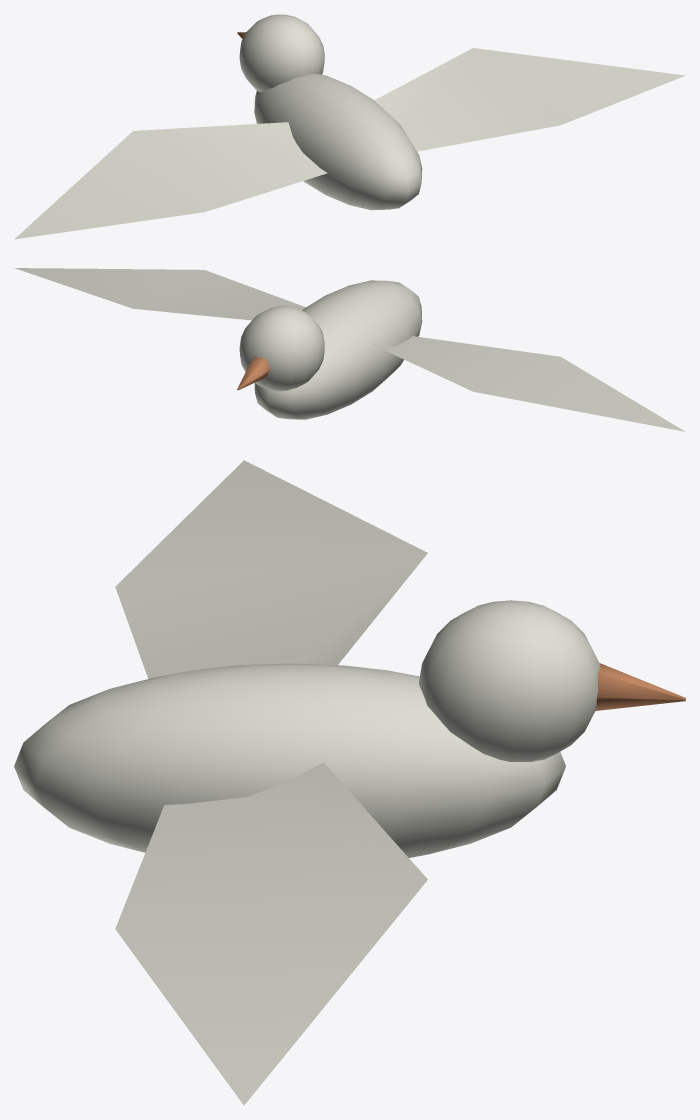
File: gull.glb
3 renders of one model, top to bottom at view 1: azimuth 30°, elevation 25°; view 2: azimuth 150°, elevation 25°; view 3: azimuth 270°, elevation 25°, orthographic. The views are drawn at different scales.
Parts seen in each view (by area): view 1: Wing, Gull_Geometry, Wing.001; view 2: Gull_Geometry, Wing, Wing.001; view 3: Gull_Geometry, Wing.001, Wing.
Part boxes in pixels (left/top/right/bottom): Wing: left=14, top=122, right=327, bottom=239; Gull_Geometry: left=237, top=14, right=422, bottom=210; Wing.001: left=374, top=48, right=685, bottom=151; Gull_Geometry: left=237, top=280, right=422, bottom=419; Wing: left=372, top=336, right=685, bottom=431; Wing.001: left=14, top=268, right=305, bottom=320; Gull_Geometry: left=14, top=600, right=685, bottom=857; Wing.001: left=115, top=762, right=427, bottom=1105; Wing: left=115, top=460, right=427, bottom=678.
Bounding box in the file's own units: 1.66 × 0.3 × 0.7302.
